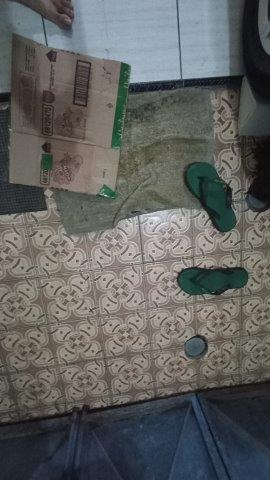kardus: (9, 35, 130, 194)
